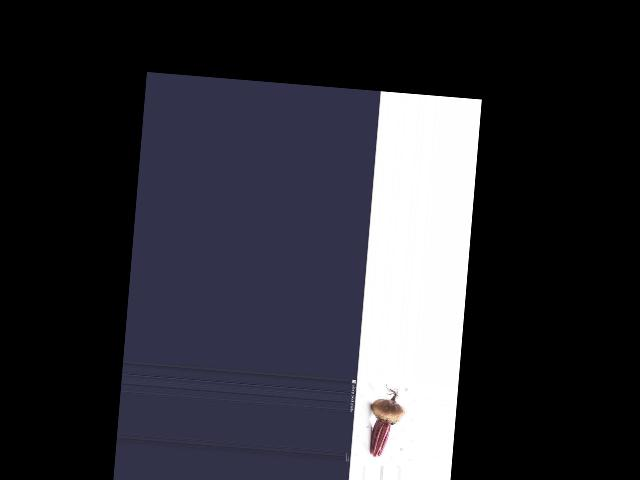beet: (367, 383, 406, 458)
